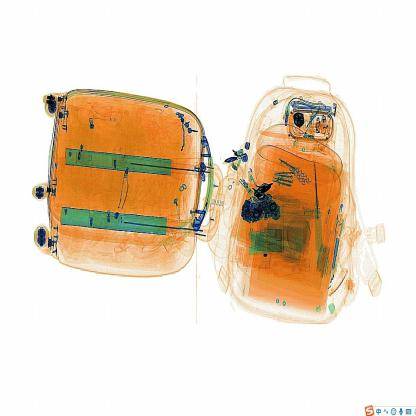wrench: (308, 149, 330, 257)
